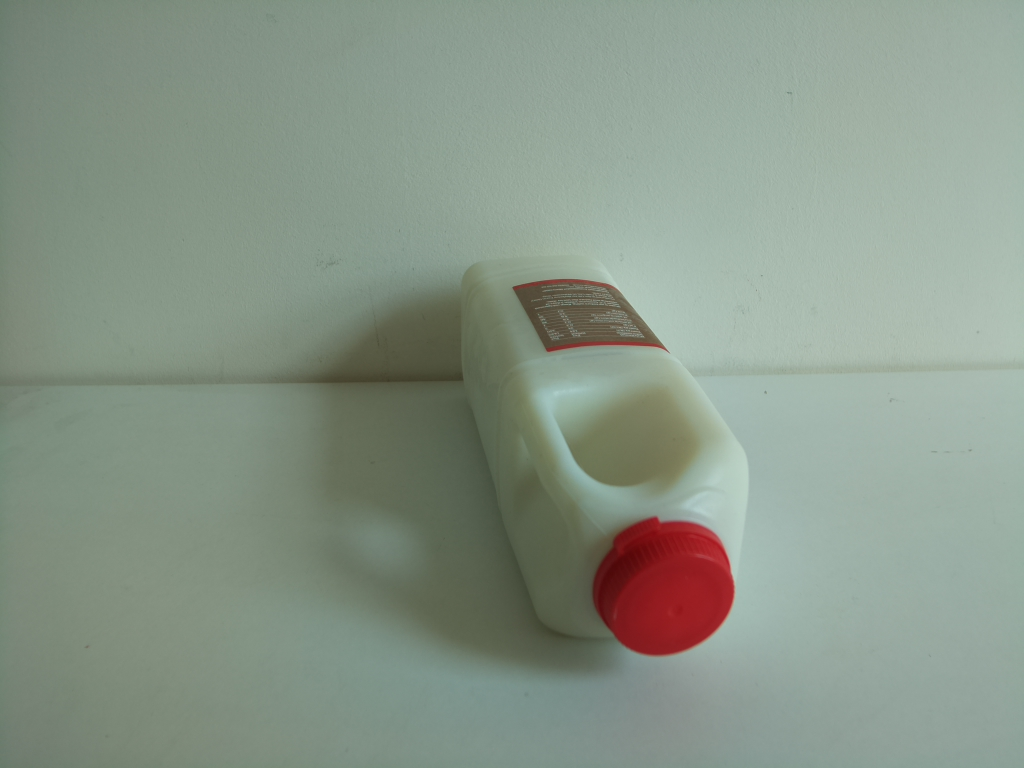milk: (454, 247, 759, 654)
